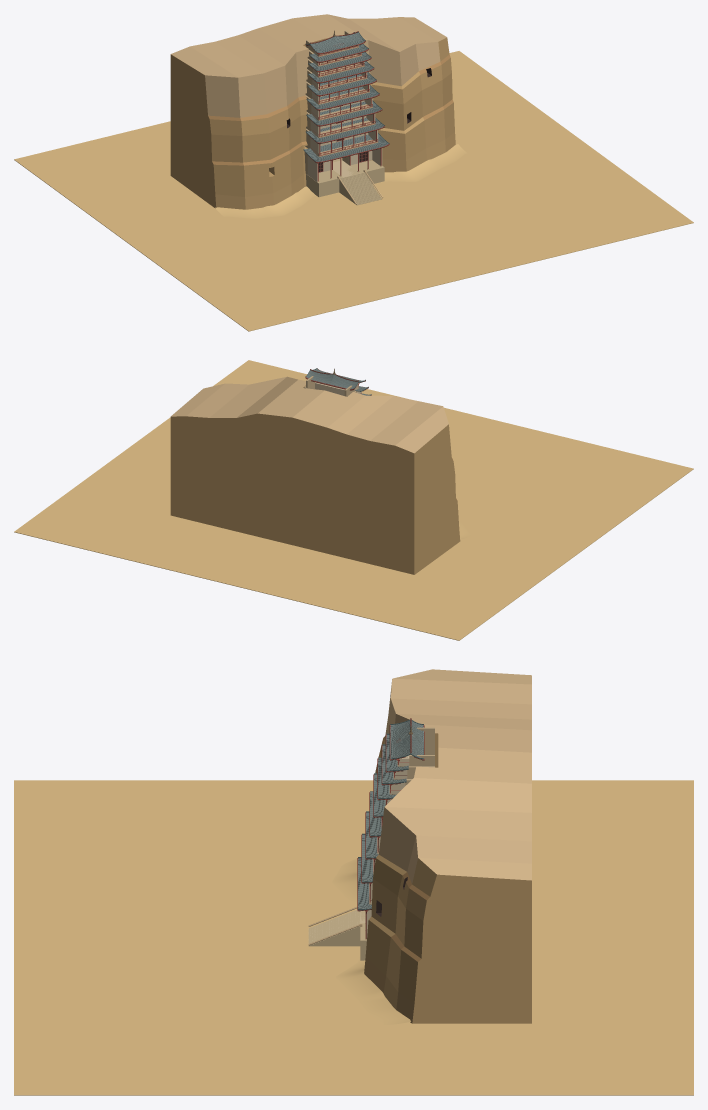
The model's file is exterior.glb.
3 renders of one model, top to bottom at view 1: azimuth 30°, elevation 25°; view 2: azimuth 150°, elevation 25°; view 3: azimuth 270°, elevation 25°, orthographic. The views are drawn at different scales.
Visible parts, largest first — view 1: export-windblown-foot--1, export-continuous-authored-sandstone-massif, export-tower-roof-1-tile, export-tower-roof-1-tile-edge, export-tower-storey-01-plaster-side, export-tower-storey-01-timber, export-stone-plinth-stone-step, export-tower-storey-01-plaster, export-tower-storey-01-timber-shadow, export-tower-storey-01-timber-light; view 2: export-windblown-foot--1, export-continuous-authored-sandstone-massif, export-tower-roof-1-tile, export-tower-roof-1-tile-edge; view 3: export-windblown-foot--1, export-continuous-authored-sandstone-massif, export-tower-roof-1-tile-edge, export-tower-roof-1-tile, export-stone-plinth-stone-step, export-tower-storey-01-plaster-side, export-tower-storey-01-timber.
Boxes of the visible parts, <box> form: export-windblown-foot--1: <box>14,51,693,331</box>; export-continuous-authored-sandstone-massif: <box>170,14,455,209</box>; export-tower-roof-1-tile: <box>304,32,388,161</box>; export-tower-roof-1-tile-edge: <box>304,32,387,161</box>; export-tower-storey-01-plaster-side: <box>304,30,378,174</box>; export-tower-storey-01-timber: <box>305,32,389,181</box>; export-stone-plinth-stone-step: <box>306,158,384,205</box>; export-tower-storey-01-plaster: <box>307,45,382,181</box>; export-tower-storey-01-timber-shadow: <box>305,31,388,163</box>; export-tower-storey-01-timber-light: <box>318,45,378,171</box>; export-windblown-foot--1: <box>14,360,693,640</box>; export-continuous-authored-sandstone-massif: <box>170,376,460,574</box>; export-tower-roof-1-tile: <box>306,368,369,395</box>; export-tower-roof-1-tile-edge: <box>307,369,370,395</box>; export-windblown-foot--1: <box>14,780,693,1095</box>; export-continuous-authored-sandstone-massif: <box>364,669,531,1023</box>; export-tower-roof-1-tile-edge: <box>358,721,423,908</box>; export-tower-roof-1-tile: <box>358,720,423,910</box>; export-stone-plinth-stone-step: <box>308,910,366,960</box>; export-tower-storey-01-plaster-side: <box>369,727,434,904</box>; export-tower-storey-01-timber: <box>357,725,424,938</box>.
Size of the model in its own units: 230 by 72.4 by 210.
